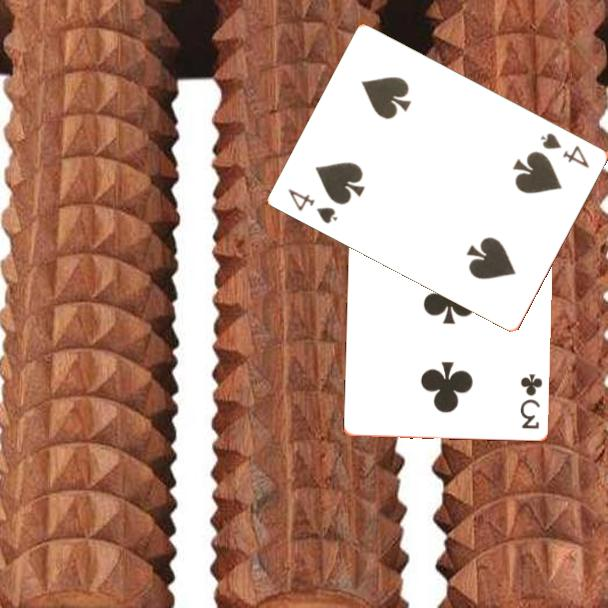c03: (516, 370, 545, 432)
s04: (537, 129, 593, 171), (285, 185, 341, 227)
